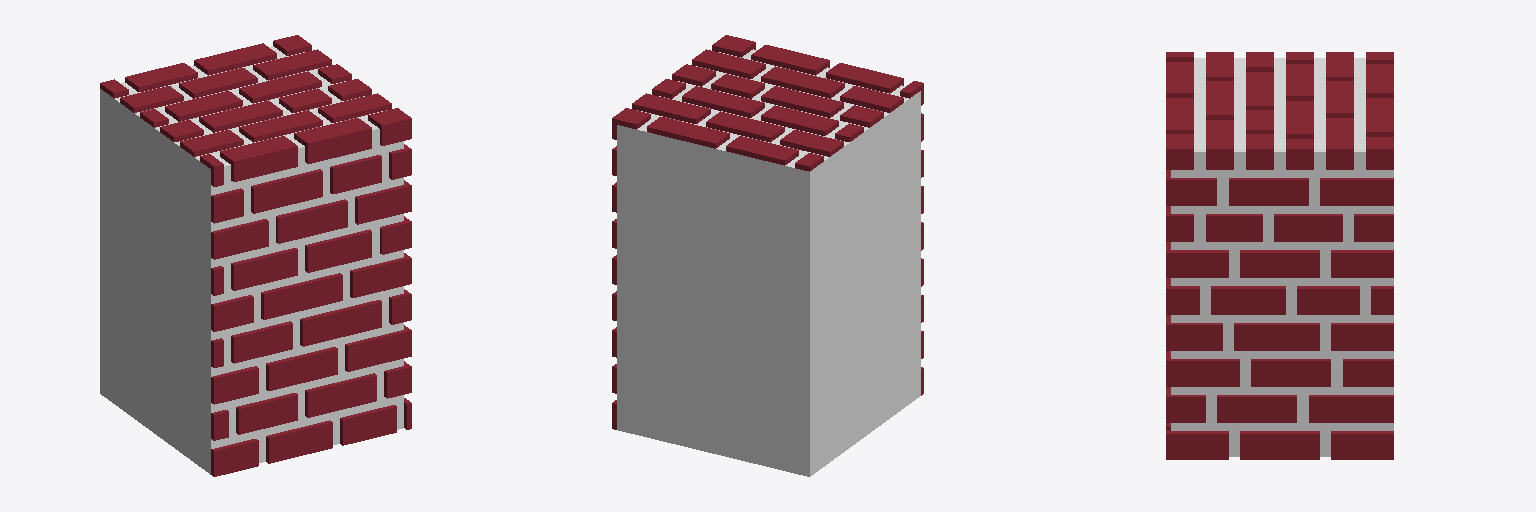
3 views of the same model, side by side, from view 1: azimuth 30°, elevation 25°; view 2: azimuth 150°, elevation 25°; view 3: azimuth 270°, elevation 25° (orthographic).
Visible parts, largest first — view 1: object 1; view 2: object 1; view 3: object 1.
Boxes of the visible parts, <box> form: object 1: <box>100,35,411,476</box>; object 1: <box>612,35,923,476</box>; object 1: <box>1166,52,1393,459</box>.
Size of the model in its own units: 4 by 6 by 4.
1 materials, 1 textured.